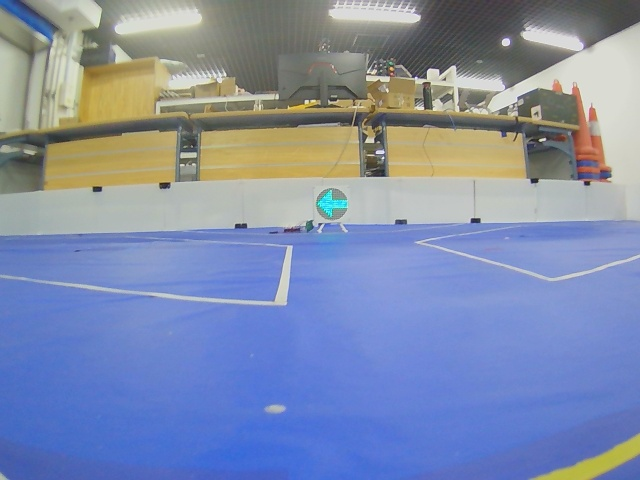left_green: (316, 188, 349, 221)
